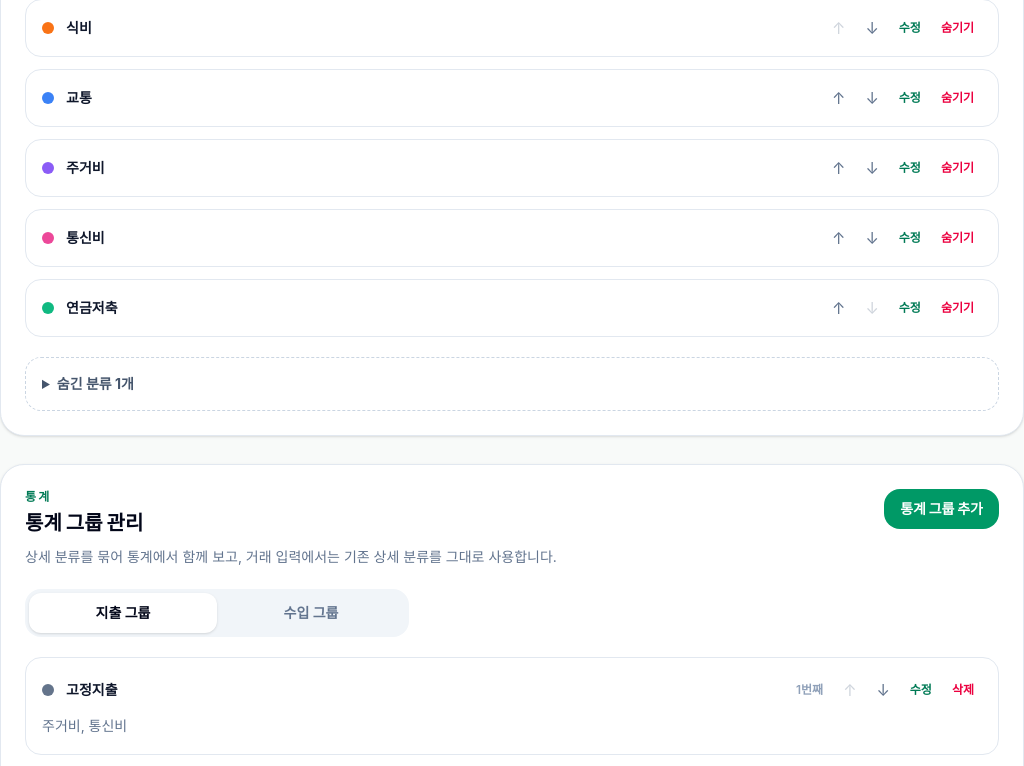
Scenario: SettingsScreen › disables impossible moves and exposes hidden categories for restoration
(page scrolled)
Expected: the button named "식비 위로 이동" is disabled, [824,12,853,44]
Expected: the button named "연금저축 아래로 이동" is disabled, [857,292,887,324]
Click the heading "숨긴 분류 1개": (95, 384) [57,375,134,392]
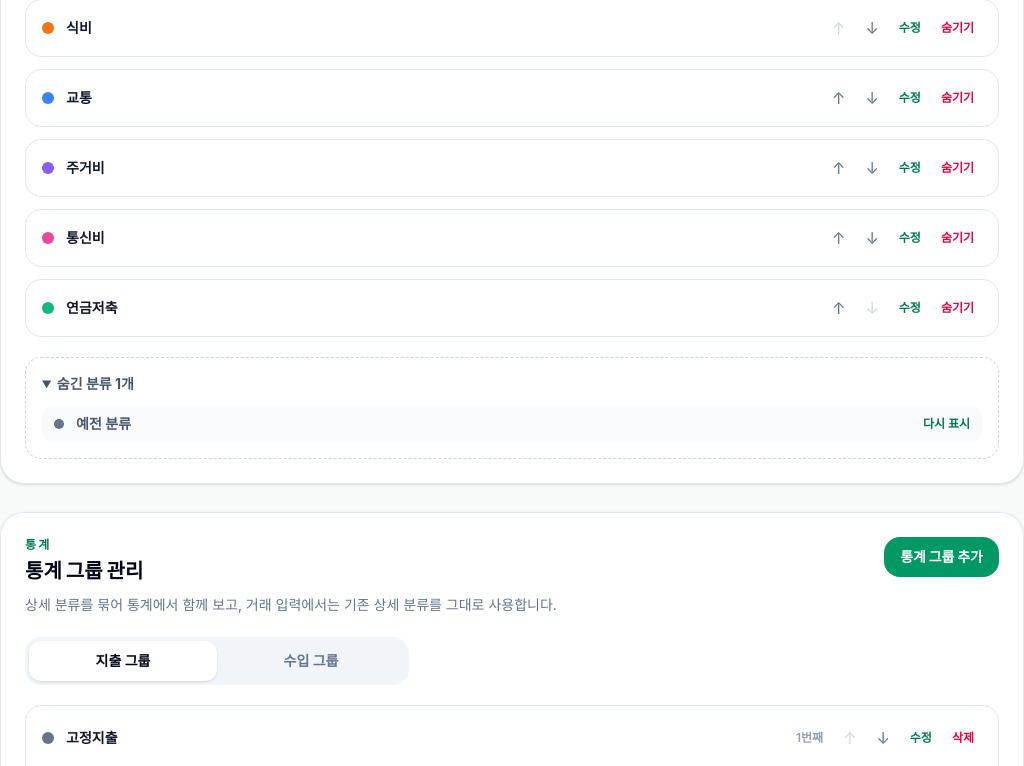
Expected: the text "예전 분류" is shown, [76,415,131,432]
Expected: the button with aria-label "예전 분류 다시 표시" is shown, [923,416,970,432]
